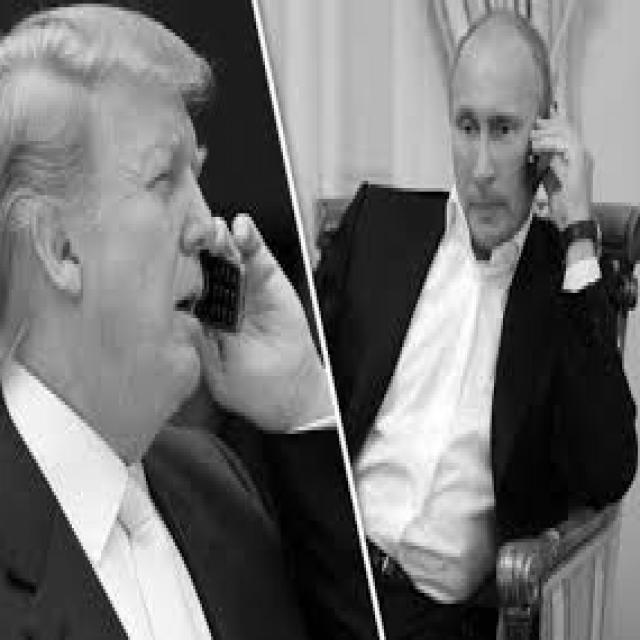phone: (173, 192, 317, 434), (488, 76, 606, 257)
